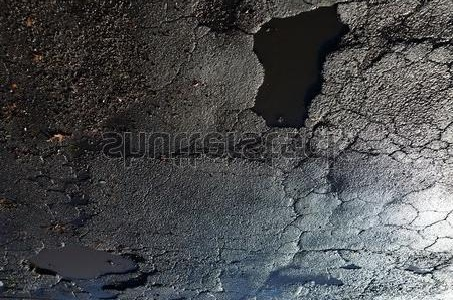pothole: (242, 5, 349, 133), (17, 242, 149, 294), (190, 1, 246, 37), (401, 250, 452, 277)
